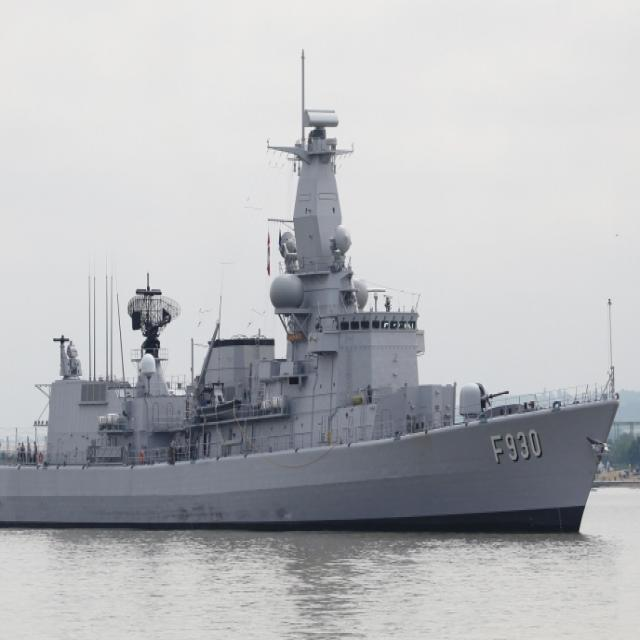Fragata: (1, 55, 622, 540)
